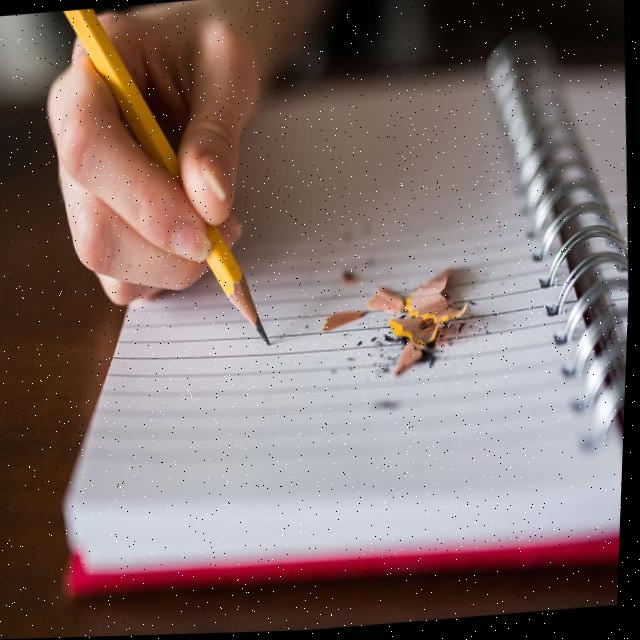pencil: (62, 10, 281, 358)
